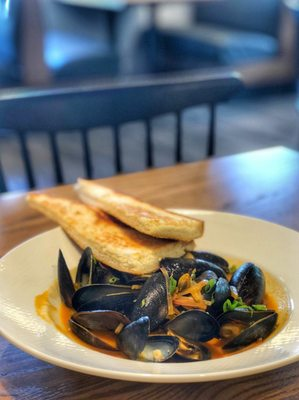soup: (25, 178, 204, 276)
sushi: (10, 244, 293, 392)
